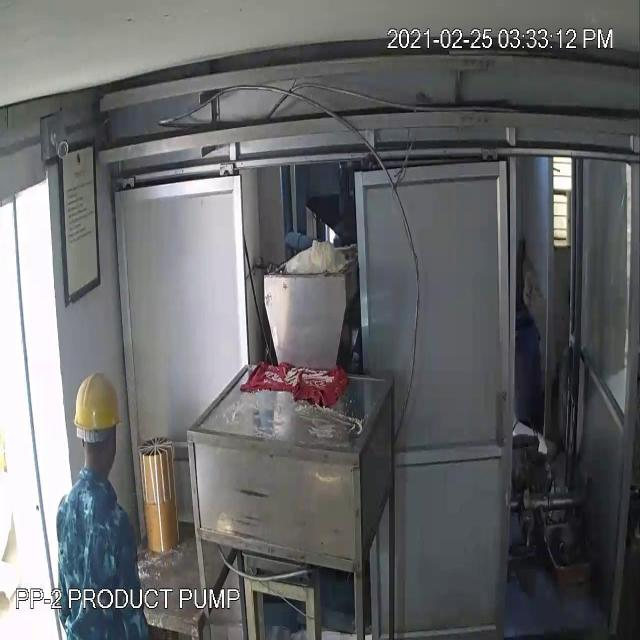helmet: (73, 366, 125, 441)
